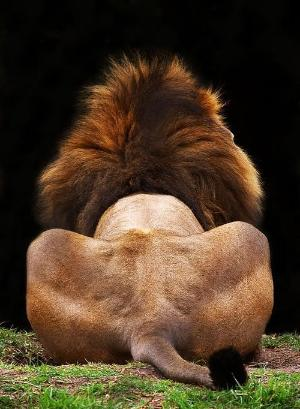lion: (23, 47, 277, 393)
